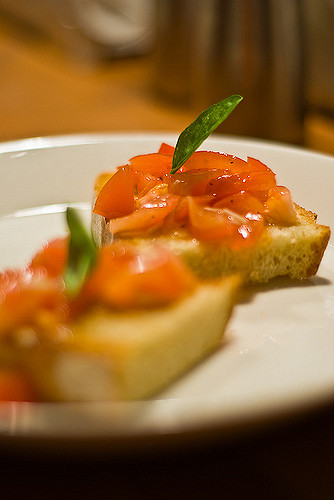slice of bread: (111, 224, 334, 275)
